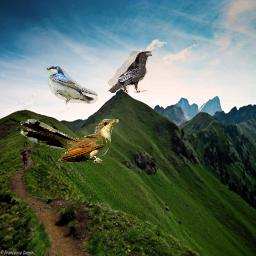Crow: (108, 51, 152, 93)
Cuckoo: (20, 119, 119, 163)
Swallow: (46, 66, 98, 105)
